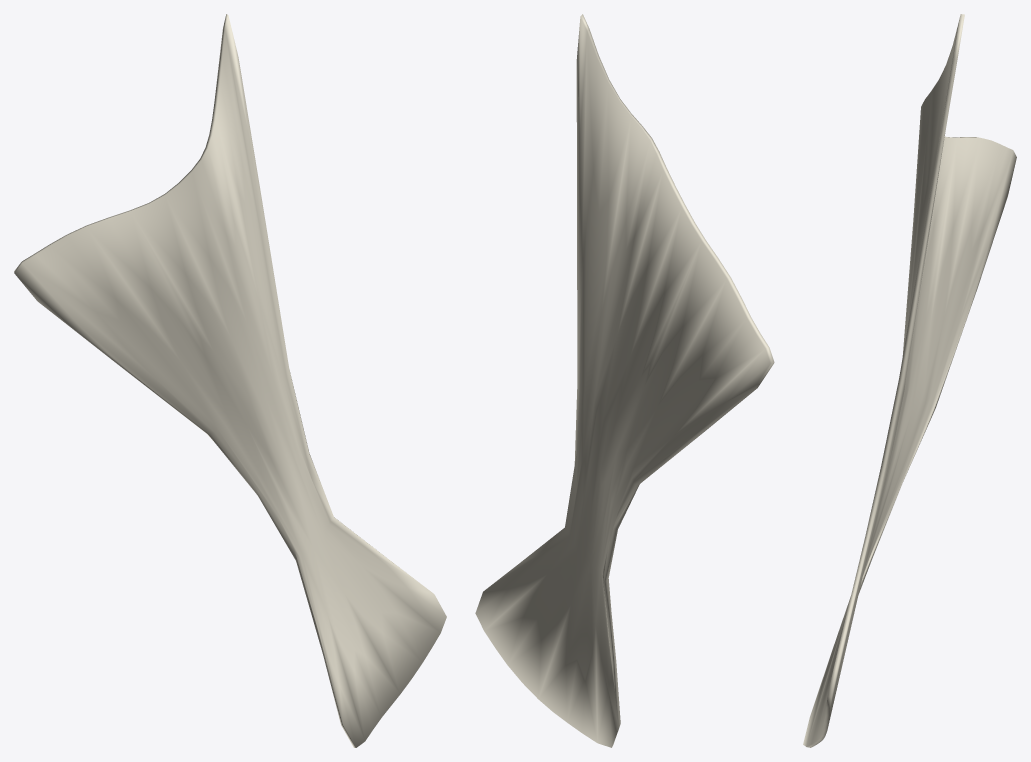
3 renders of one model, left to right at view 1: azimuth 30°, elevation 25°; view 2: azimuth 150°, elevation 25°; view 3: azimuth 270°, elevation 25°, orthographic. The views are drawn at different scales.
Parts seen in each view (by area): view 1: ZA_0ed907906a520520; view 2: ZA_0ed907906a520520; view 3: ZA_0ed907906a520520.
Part boxes in pixels (box(x1,y1,x2,y2)): ZA_0ed907906a520520: box(14, 14, 446, 747); ZA_0ed907906a520520: box(475, 14, 774, 747); ZA_0ed907906a520520: box(803, 14, 1016, 747).
Bounding box in the file's own units: 0.0464 × 0.0894 × 0.0246.
